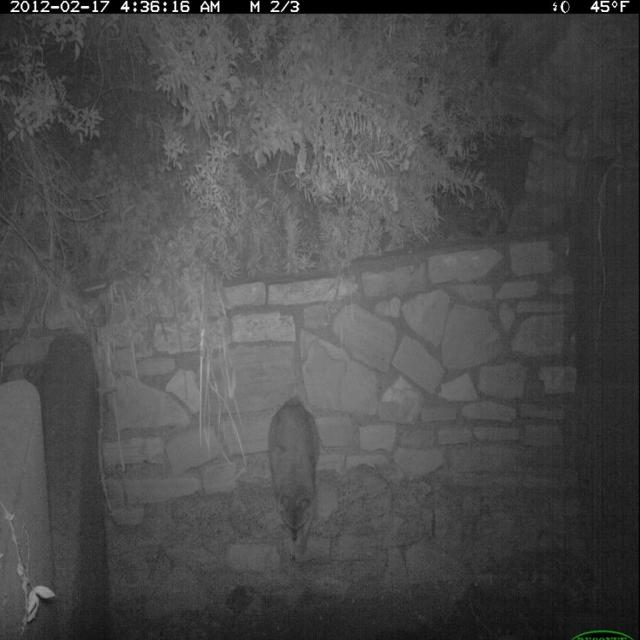raccoon: (264, 391, 325, 573)
